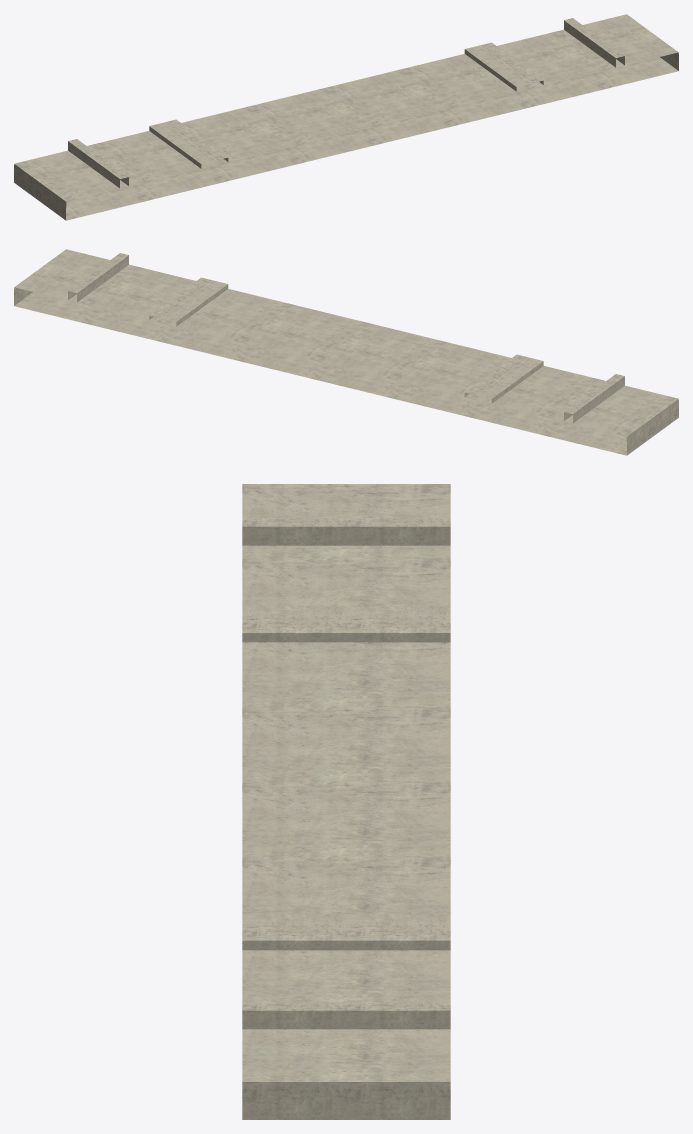
File: SuspBridgeBase-2L.FBX
3 views of the same model, one above another, from view 1: azimuth 30°, elevation 25°; view 2: azimuth 150°, elevation 25°; view 3: azimuth 270°, elevation 25° (orthographic). The views are drawn at different scales.
Parts seen in each view (by area): view 1: SuspBridgeBase-2L; view 2: SuspBridgeBase-2L; view 3: SuspBridgeBase-2L.
Boxes of the visible parts, x1,y1,x2,y2 form: SuspBridgeBase-2L: [14, 14, 678, 220]; SuspBridgeBase-2L: [14, 249, 678, 455]; SuspBridgeBase-2L: [242, 484, 450, 1119].
Bounding box in the file's own units: 34 × 1.5 × 5.
